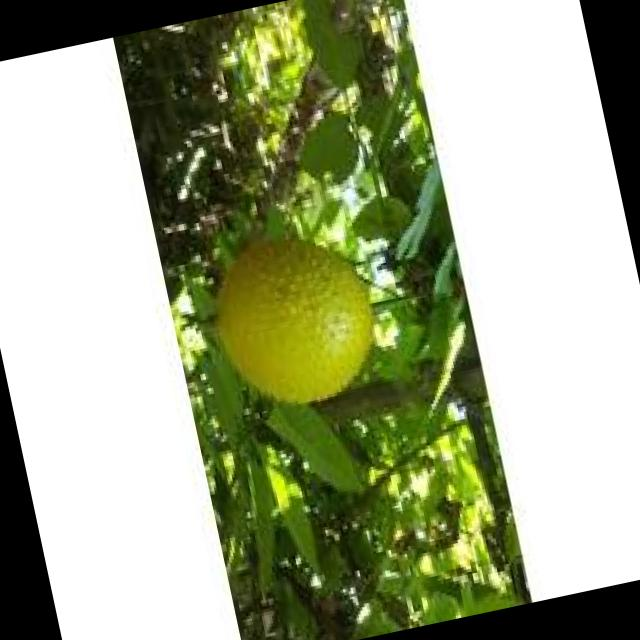Fruit: (186, 203, 405, 434)
